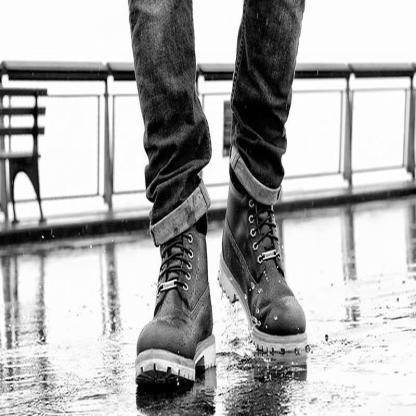ankle: (200, 265, 204, 274), (236, 221, 240, 227)
heel: (220, 273, 225, 279), (211, 354, 215, 360)
left_foot: (219, 196, 308, 353)
pinky: (141, 337, 146, 343), (301, 315, 305, 320)
right_foot: (136, 235, 217, 387)
toe: (170, 342, 175, 350), (276, 325, 280, 332)
